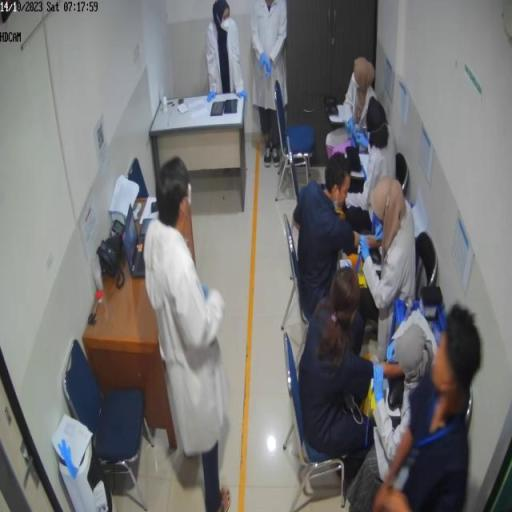person: (144, 158, 232, 511), (348, 303, 484, 512), (299, 268, 404, 489), (351, 310, 440, 511), (292, 153, 369, 319), (361, 176, 418, 360), (345, 98, 397, 232), (250, 1, 289, 167), (206, 1, 247, 100), (345, 57, 379, 131)
